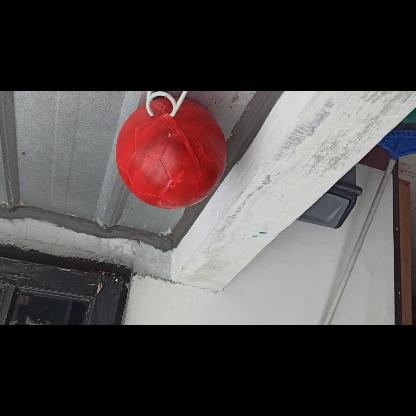red_ball: (113, 96, 228, 210)
